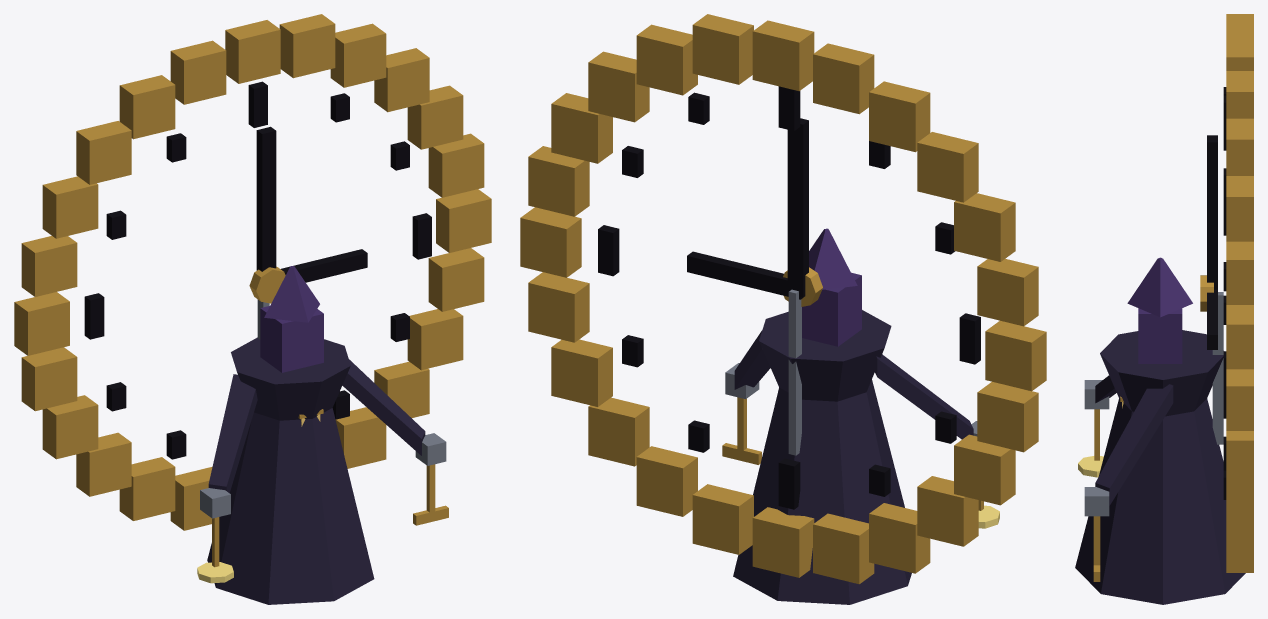
The model's file is Clockmaker.glb.
3 views of the same model, side by side, from view 1: azimuth 30°, elevation 25°; view 2: azimuth 150°, elevation 25°; view 3: azimuth 270°, elevation 25° (orthographic). The views are drawn at different scales.
Visible parts, largest first — view 1: Clockmaker; view 2: Clockmaker; view 3: Clockmaker.
Boxes of the visible parts, x1,y1,x2,y2 form: Clockmaker: (14, 14, 491, 604); Clockmaker: (520, 14, 1046, 604); Clockmaker: (1075, 14, 1253, 604).
Size of the model in its own units: 9.9 by 10.45 by 3.25.
Materials: 1 (1 with a texture image).
